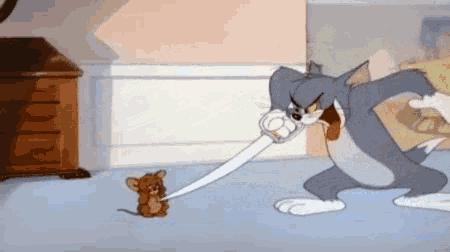jerry: (116, 169, 171, 219)
